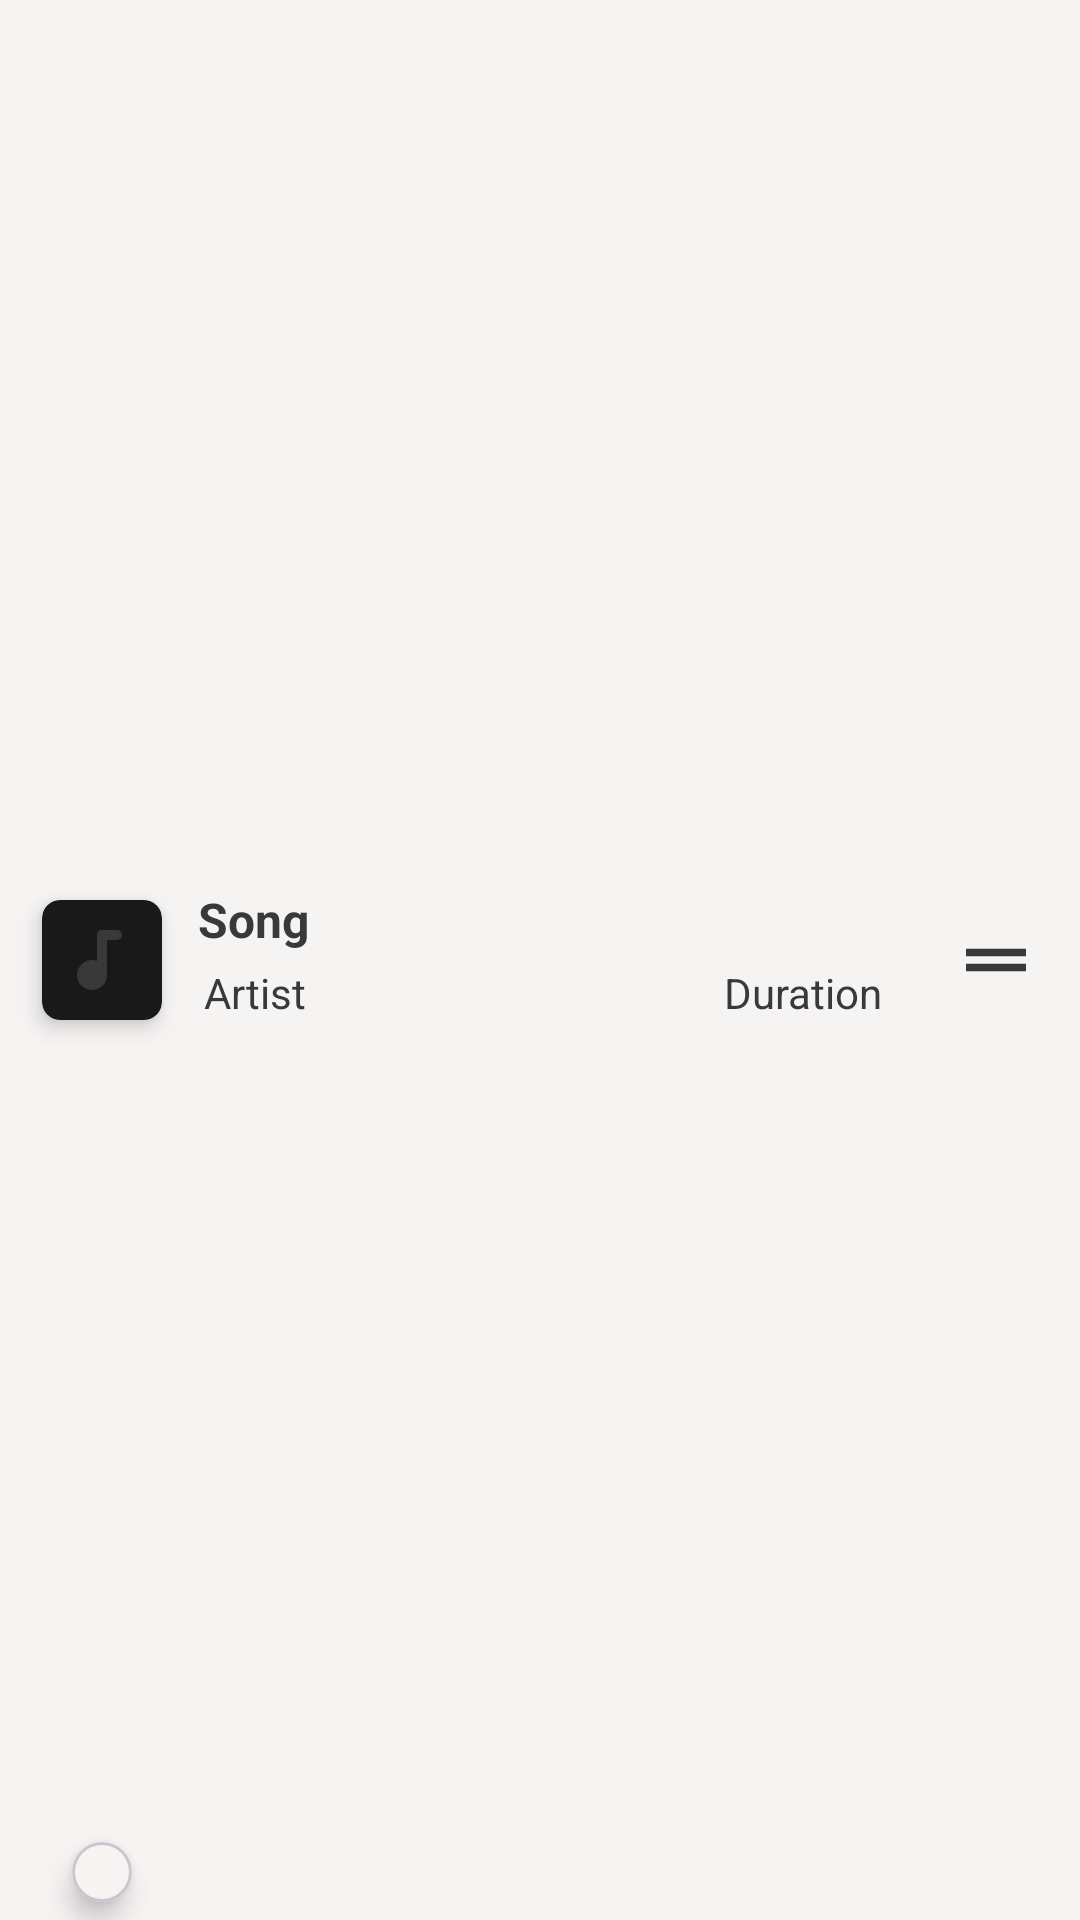

Icon bounding boxes for this 1080 x 1920 phone screenshot, format (x1, y1, x2, y2):
drag handle: (966, 948, 1026, 972)
music: (42, 900, 162, 1020)
